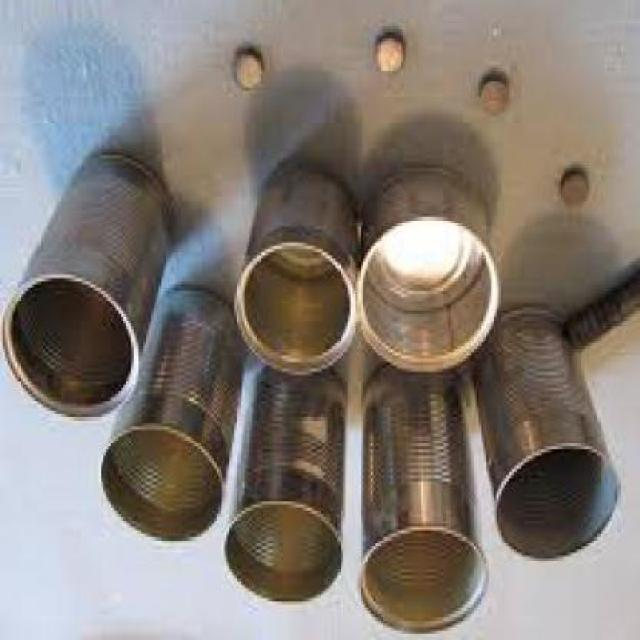METAL: (2, 152, 172, 423), (473, 310, 618, 565), (98, 291, 244, 543), (358, 365, 488, 633), (353, 168, 499, 378), (222, 364, 348, 604), (232, 168, 356, 381)
